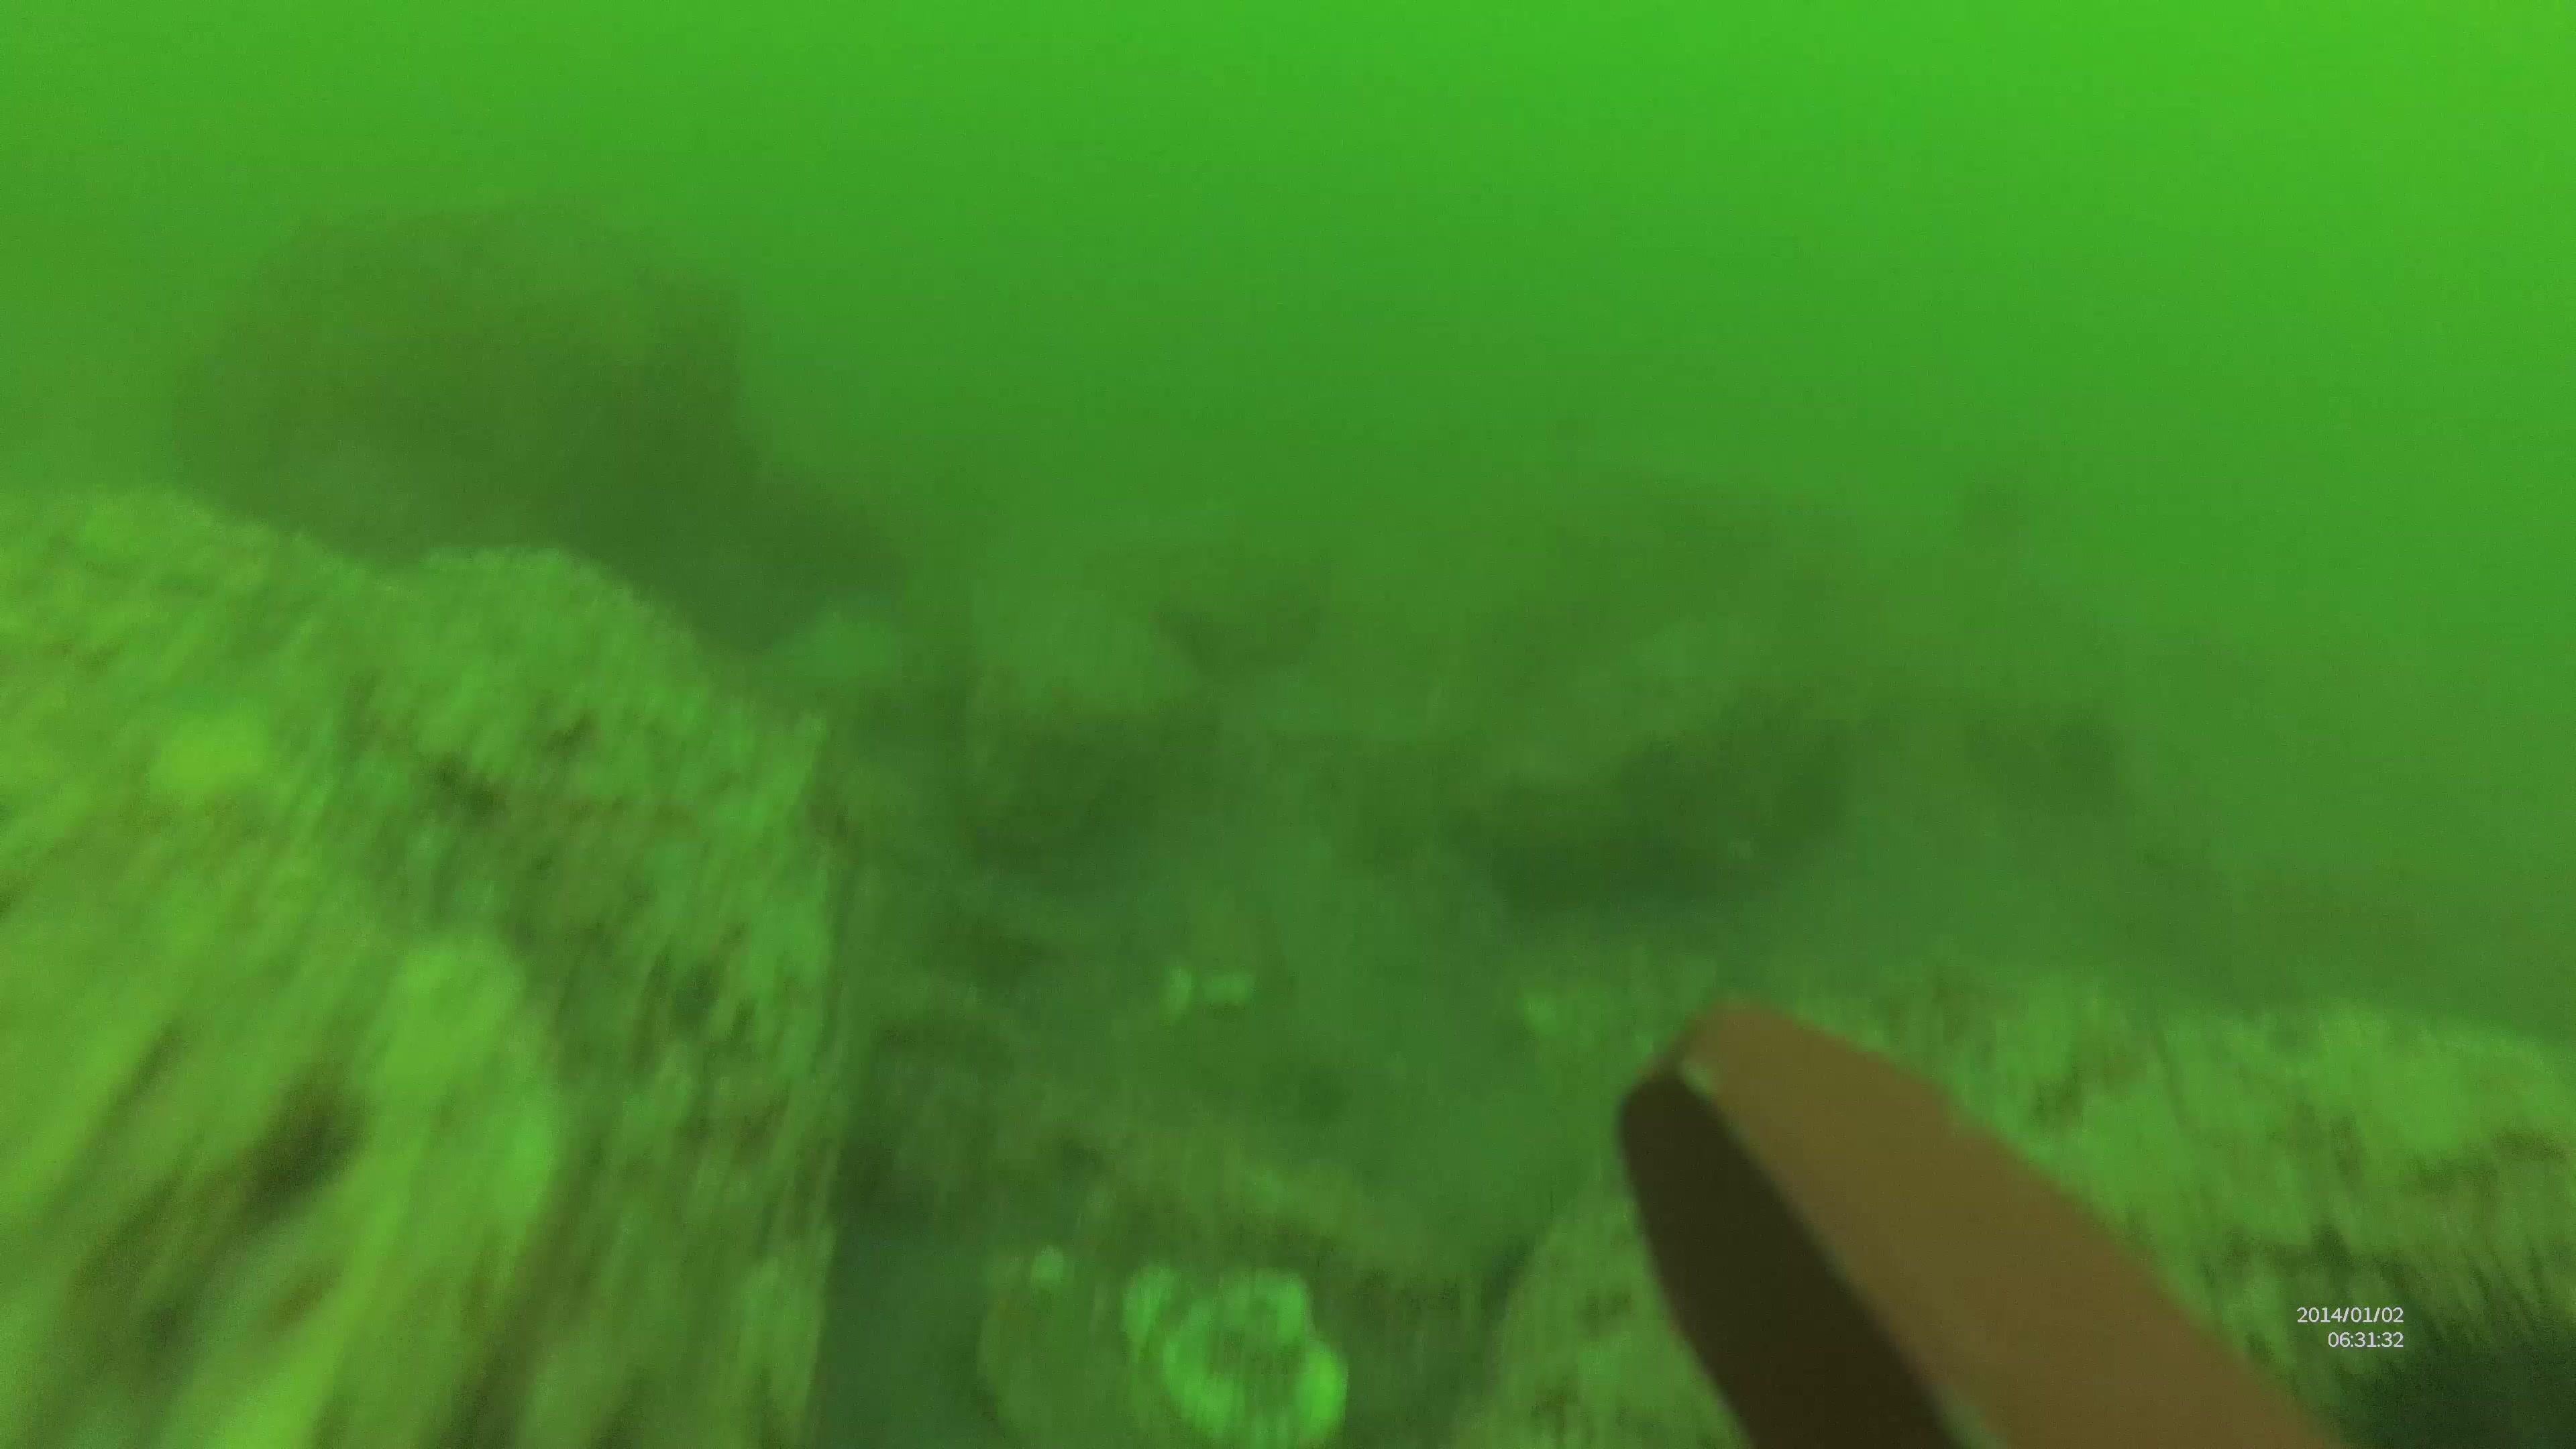echinus: (2316, 1237, 2576, 1449)
